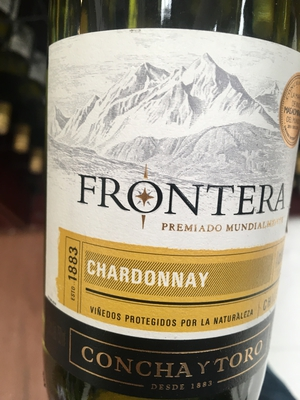frontera chardonnay: (37, 8, 296, 399)
